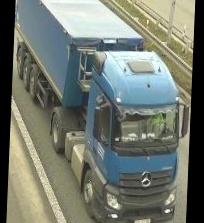truck: (9, 0, 194, 223)
